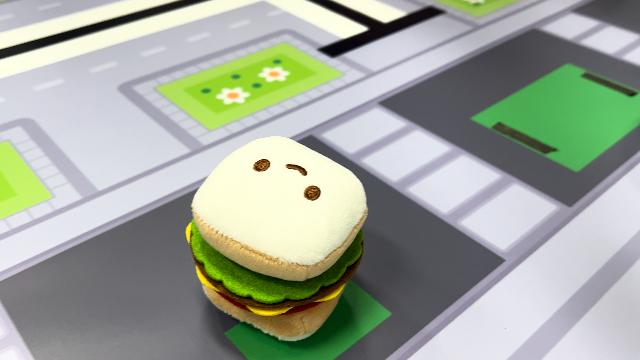sandwich: (184, 134, 370, 342)
